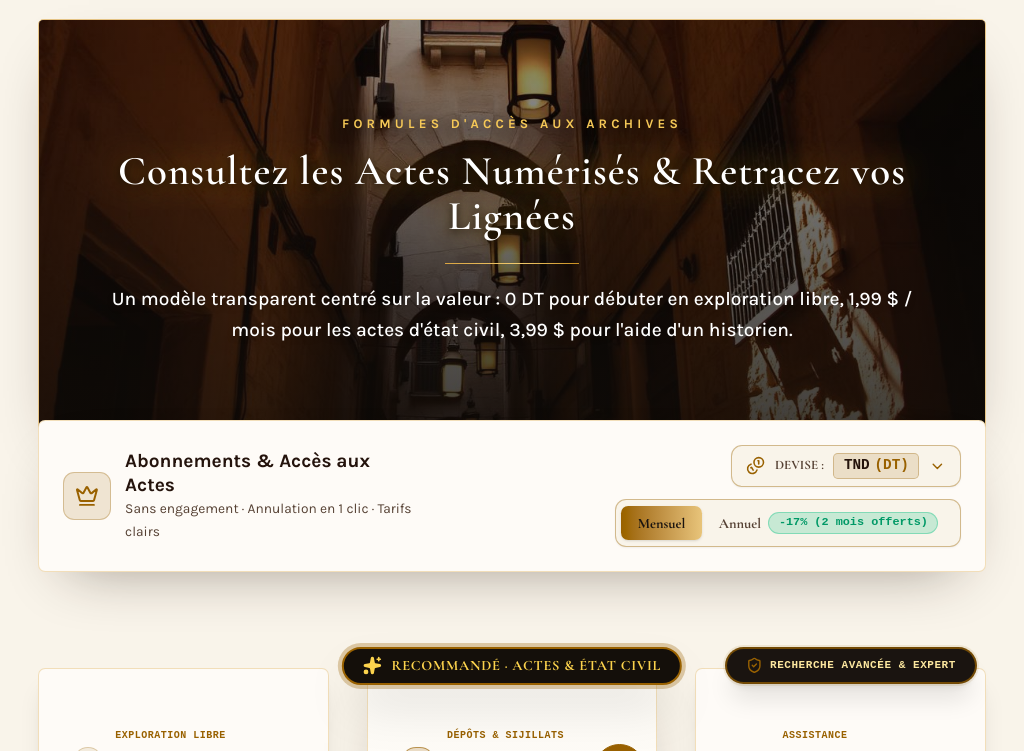
Test: Subscriptions Page Redesign › toggles billing cycle between monthly and annual with -17% discount
The image size is (1024, 751).
Click the button "Annuel -17% (2 mois offerts)": (829, 523) [702,505,955,542]
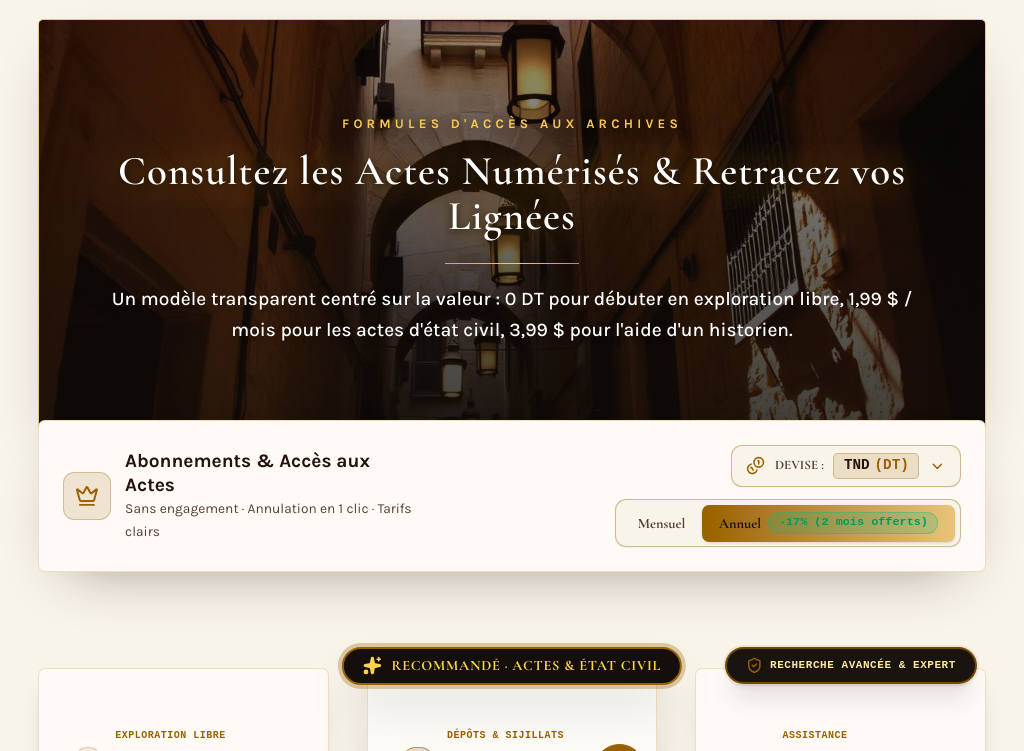
Result: the button "Annuel -17% (2 mois offerts)" has class "bg-gradient-to-r" at [702,505,955,542]
